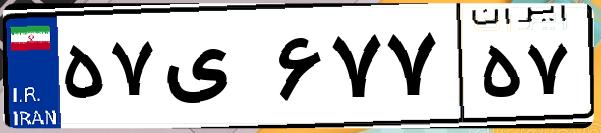5: (57, 26, 110, 100), (475, 38, 525, 113)
6: (270, 28, 330, 110)
7: (385, 28, 445, 110), (330, 28, 385, 110), (525, 38, 570, 115), (110, 28, 158, 98)
ی: (158, 20, 270, 120)
